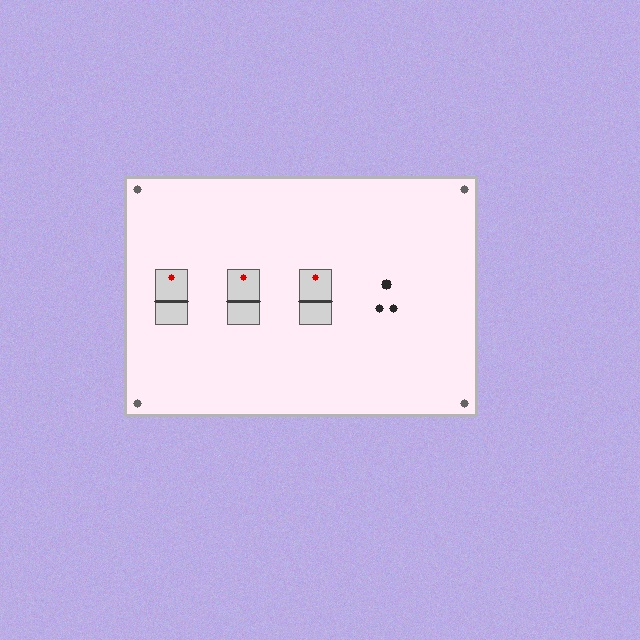switchboard: (125, 177, 476, 415)
